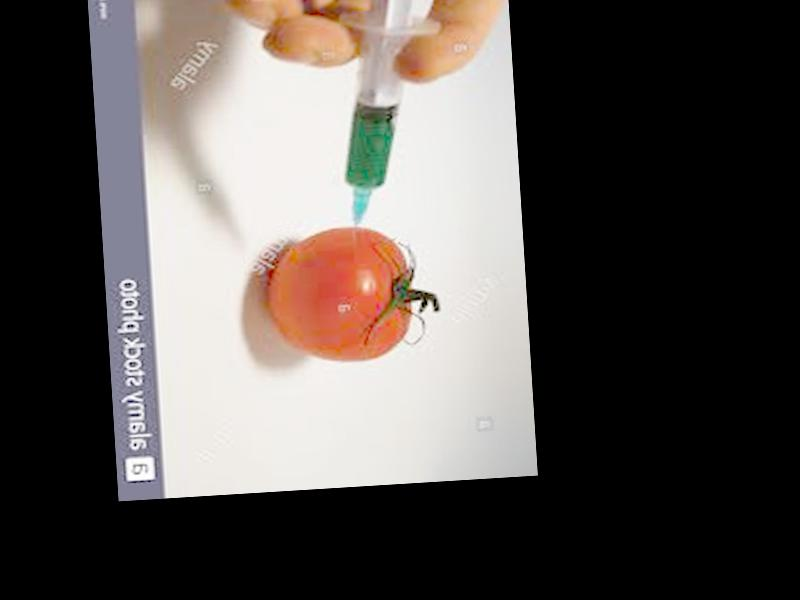Tomato: (264, 223, 414, 364)
